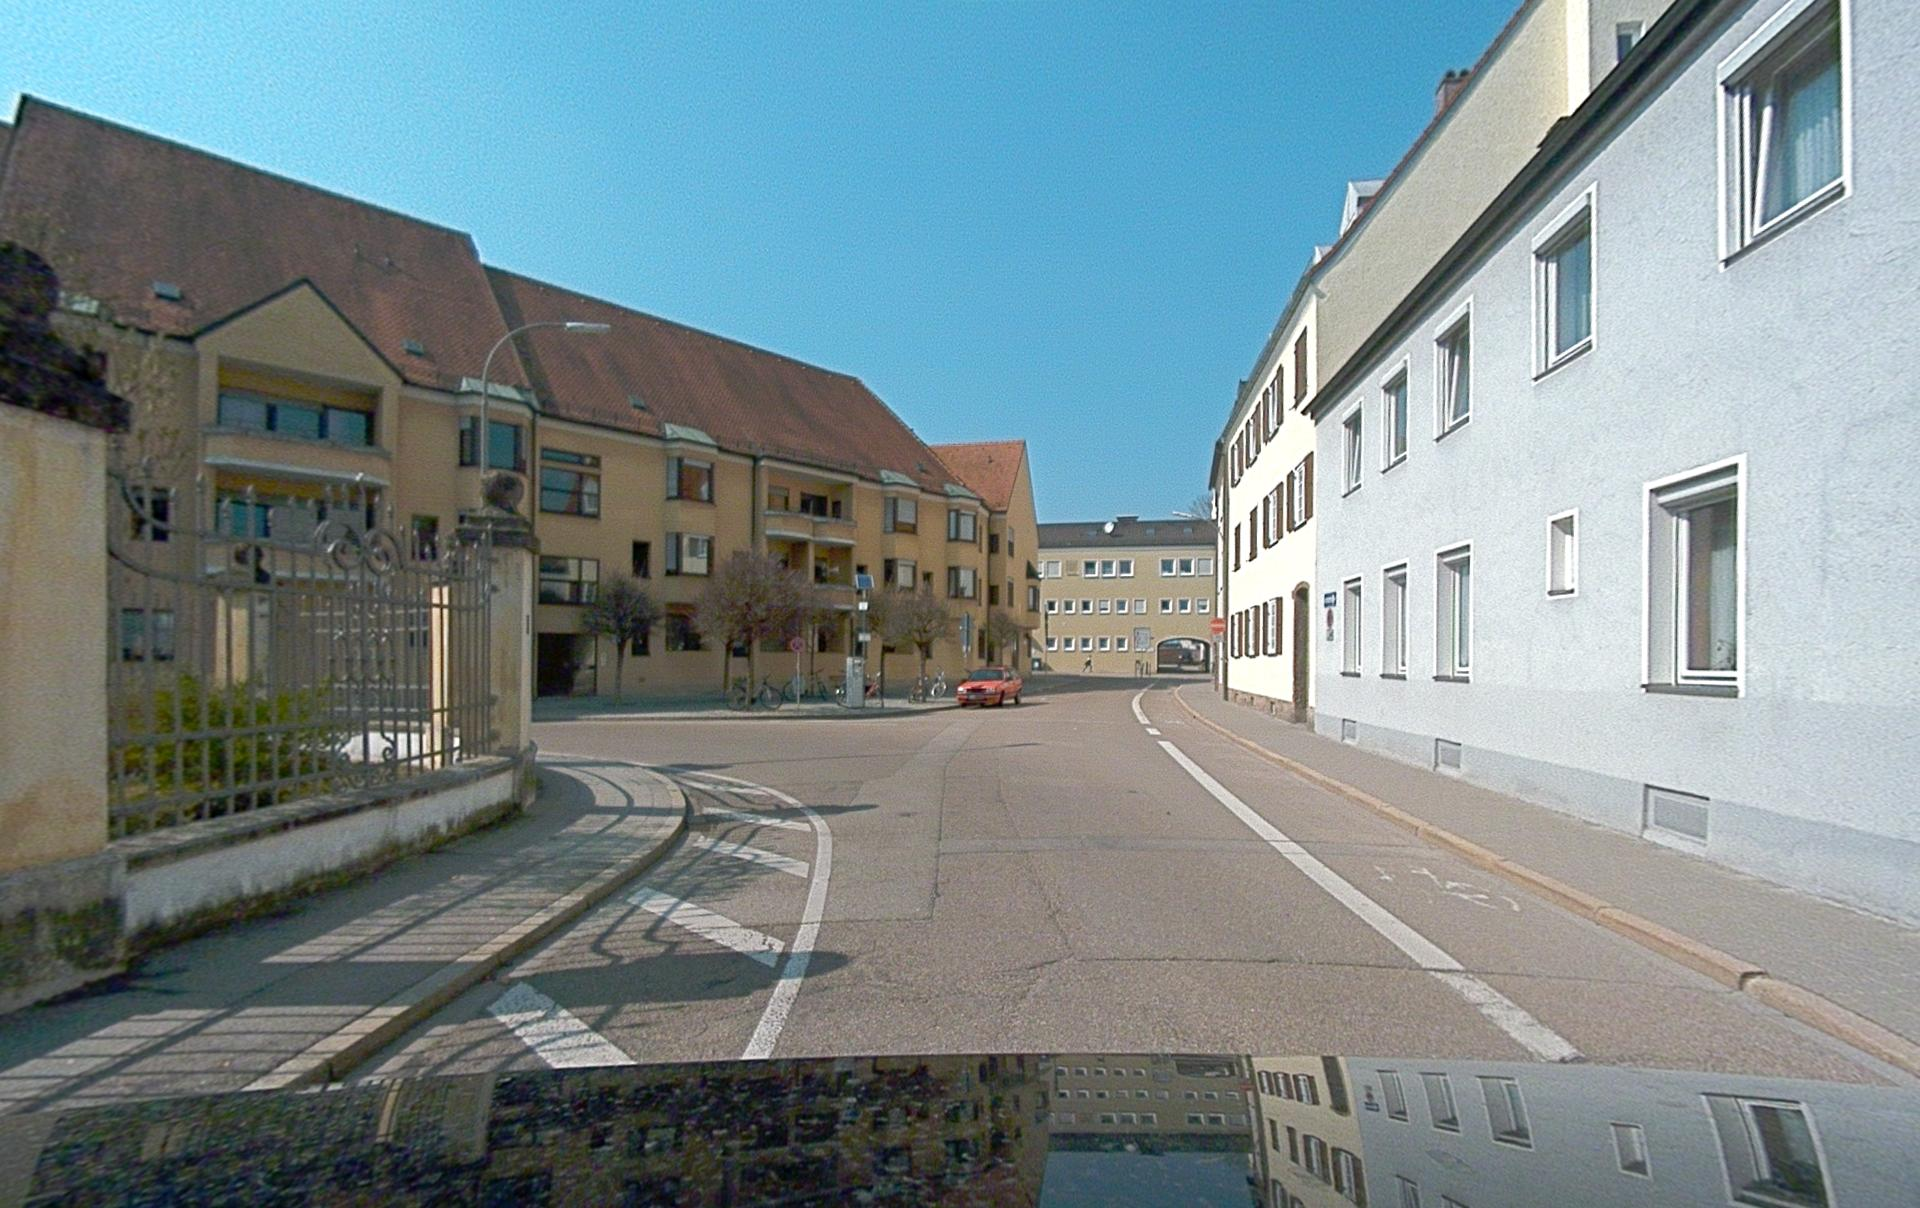car: (957, 667, 1023, 707), (1156, 637, 1210, 672)
